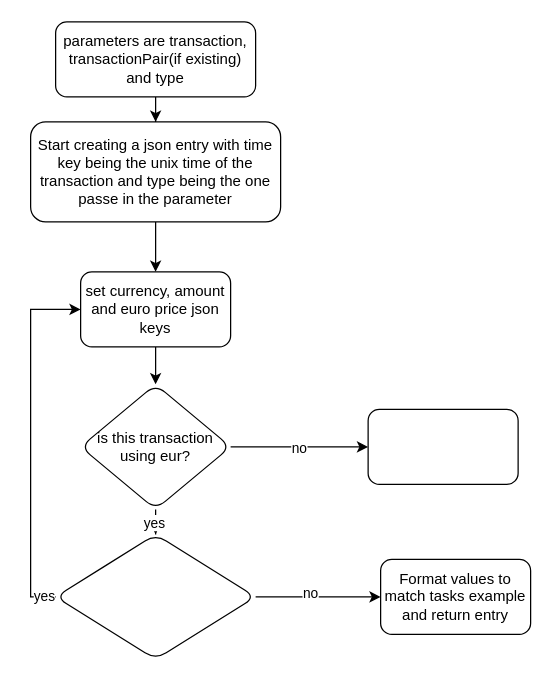
This 553x681 diagram has some shape labels left out. Each missing label, with the centre of its shape:
fetch Coin price with API: pixel 442 446
Is there a transaction pair?: pixel 155 596
